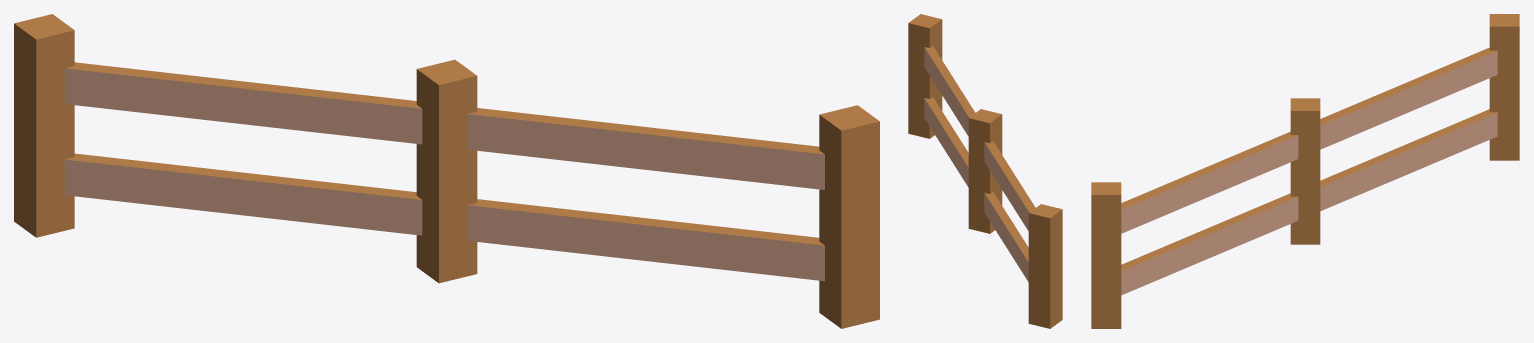
Rendered from fence_simpleDiagonalCenter.glb.
3 views of the same model, side by side, from view 1: azimuth 30°, elevation 25°; view 2: azimuth 150°, elevation 25°; view 3: azimuth 270°, elevation 25° (orthographic). The views are drawn at different scales.
Visible parts, largest first — view 1: fence_simpleDiagonalCenter; view 2: fence_simpleDiagonalCenter; view 3: fence_simpleDiagonalCenter.
Part boxes in pixels (x1,y1,x2,y2): fence_simpleDiagonalCenter: (14, 14, 879, 328); fence_simpleDiagonalCenter: (908, 14, 1062, 328); fence_simpleDiagonalCenter: (1091, 14, 1519, 328).
Size of the model in its own units: 1 by 0.345 by 1.
